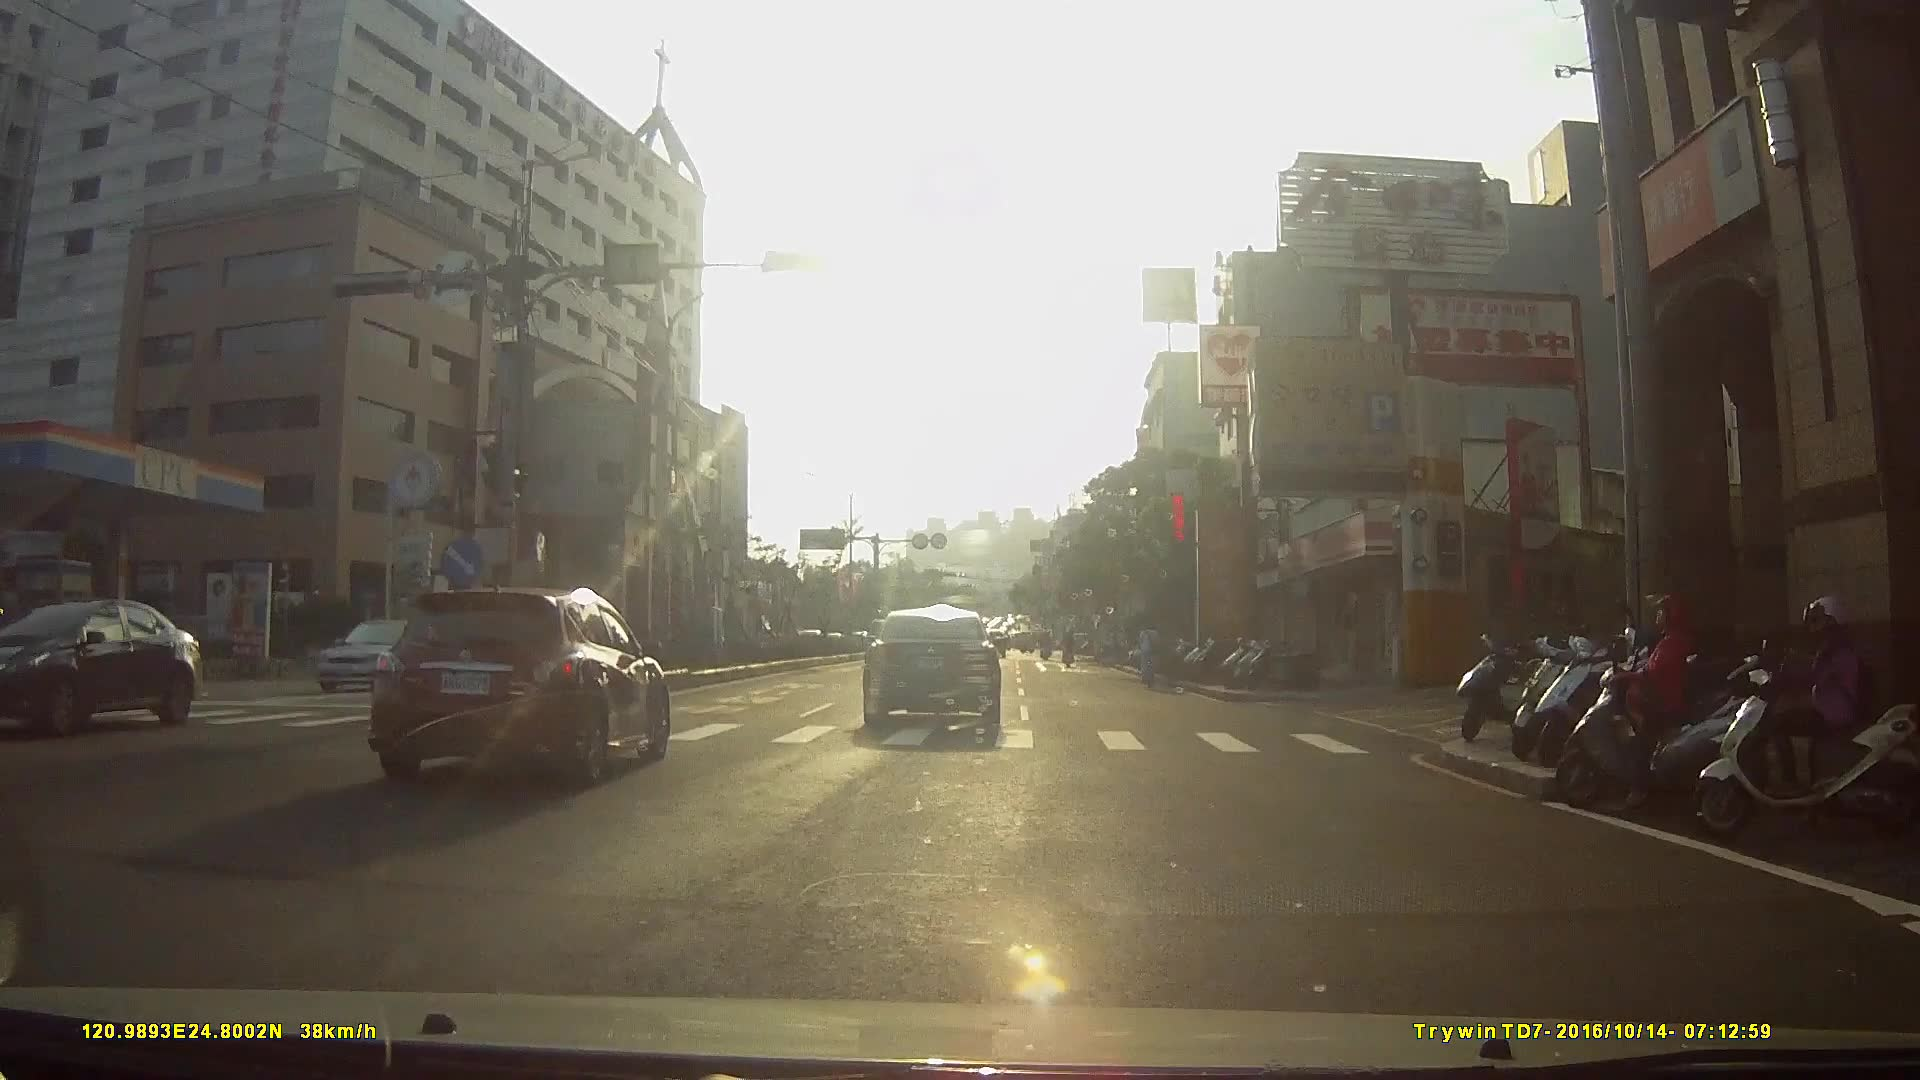rider: (1686, 590, 1916, 849), (1550, 586, 1791, 827), (1133, 621, 1162, 694)
vehicle: (373, 575, 682, 797), (1, 592, 213, 737), (857, 606, 1017, 738), (763, 607, 822, 662)
